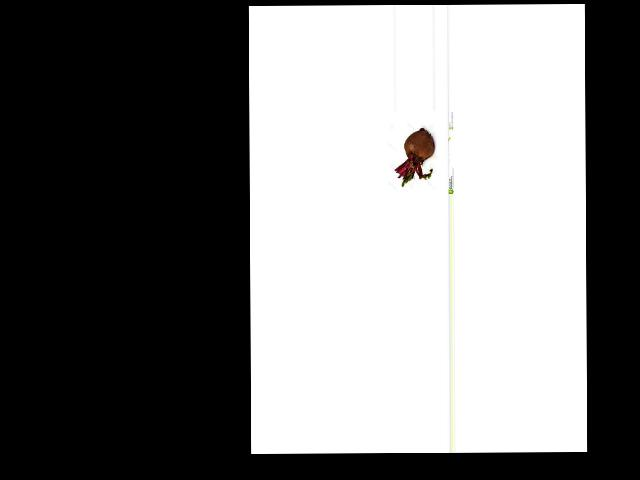beet: (394, 127, 434, 186)
